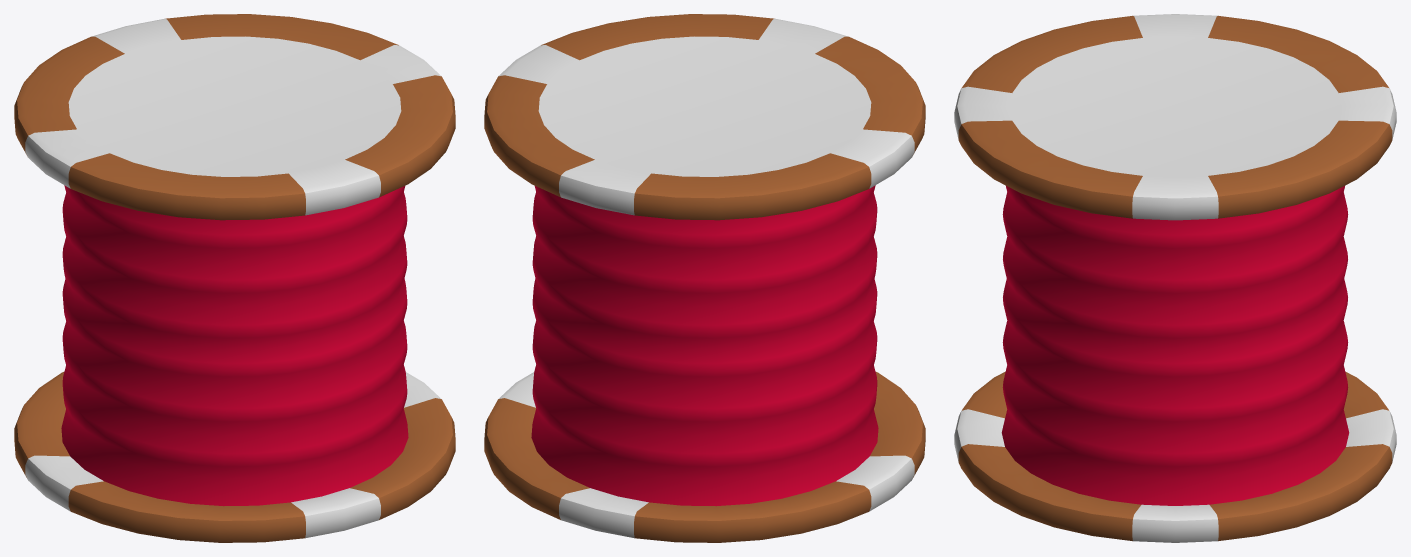
File: Spool2.fbx
The picture shows the model from 3 angles, left to right: view 1: azimuth 30°, elevation 25°; view 2: azimuth 150°, elevation 25°; view 3: azimuth 270°, elevation 25°; orthographic projection.
Visible parts, largest first — view 1: Cylinder; view 2: Cylinder; view 3: Cylinder.
Boxes of the visible parts, x1,y1,x2,y2 form: Cylinder: (14,14,455,542); Cylinder: (484,14,925,542); Cylinder: (954,14,1396,542).
Size of the model in its own units: 266 by 231 by 266.
